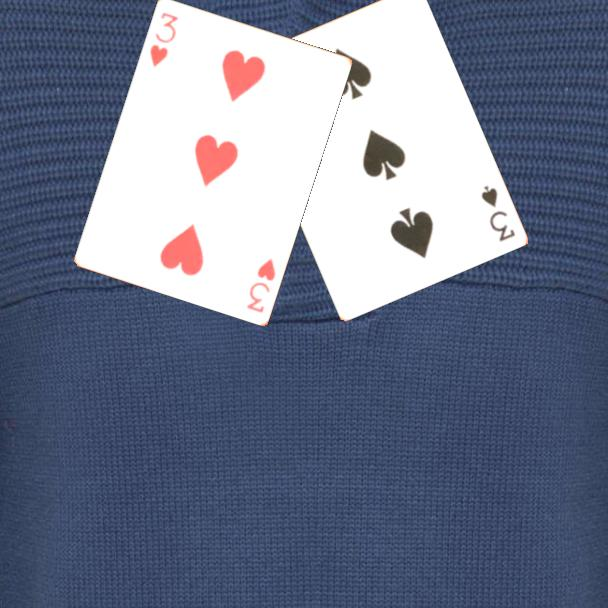h03: (146, 9, 181, 70), (243, 254, 278, 315)
s03: (477, 182, 518, 244)
